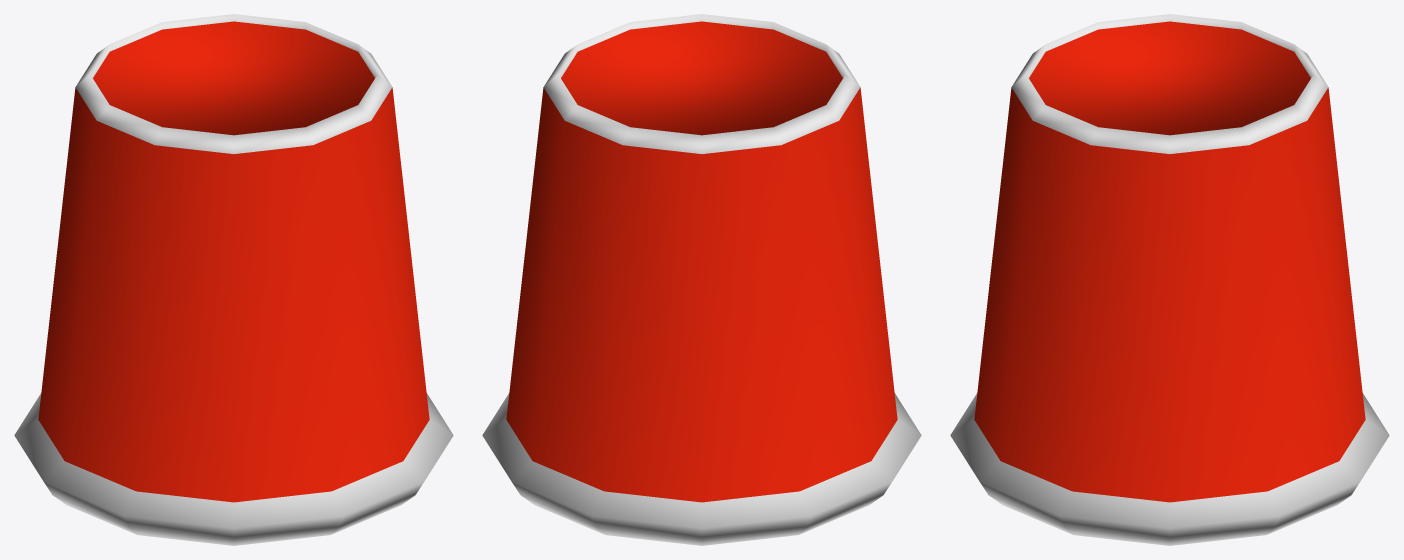
File: Gobelet.fbx
3 renders of one model, left to right at view 1: azimuth 30°, elevation 25°; view 2: azimuth 150°, elevation 25°; view 3: azimuth 270°, elevation 25°, orthographic.
Parts seen in each view (by area): view 1: Gobelet; view 2: Gobelet; view 3: Gobelet.
Part boxes in pixels (x1,y1,x2,y2): Gobelet: (14,14,453,545); Gobelet: (482,14,921,545); Gobelet: (950,14,1389,545).
Bounding box in the file's own units: 210 × 205 × 210.
